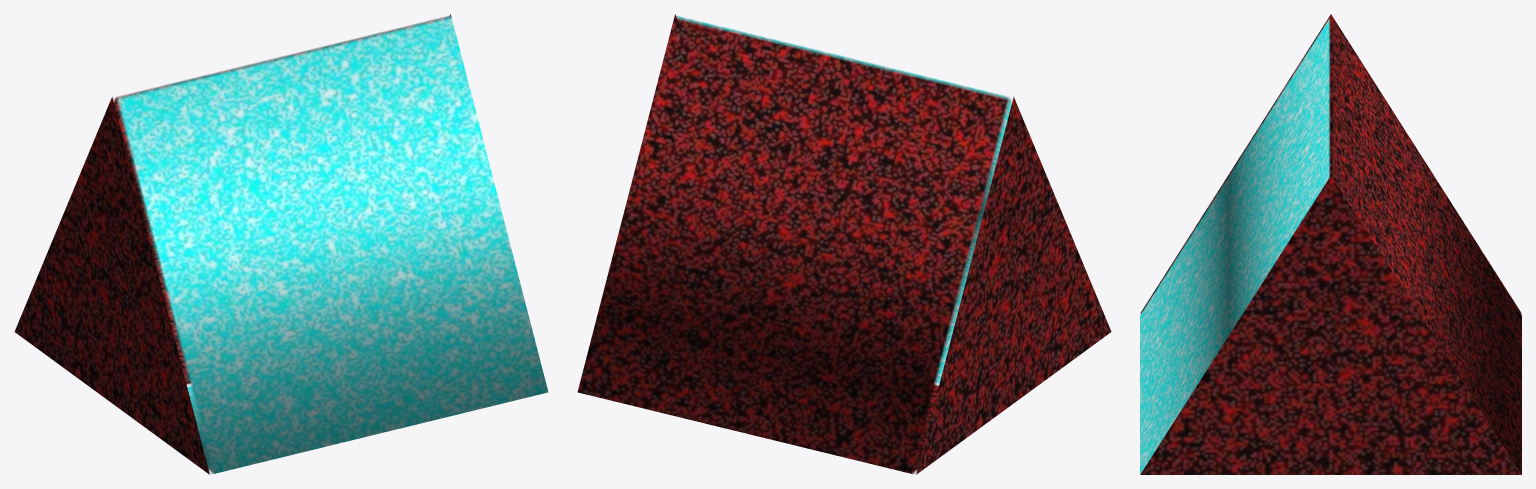
3 renders of one model, left to right at view 1: azimuth 30°, elevation 25°; view 2: azimuth 150°, elevation 25°; view 3: azimuth 270°, elevation 25°, orthographic. The views are drawn at different scales.
Parts seen in each view (by area): view 1: SM_TriangularPrism_LOD0; view 2: SM_TriangularPrism_LOD0; view 3: SM_TriangularPrism_LOD0.
Part boxes in pixels (x1,y1,x2,y2): SM_TriangularPrism_LOD0: [14, 14, 548, 474]; SM_TriangularPrism_LOD0: [577, 14, 1111, 474]; SM_TriangularPrism_LOD0: [1140, 14, 1521, 474].
Bounding box in the file's own units: 1 × 0.866 × 1.
Materials: 1 (1 with a texture image).
